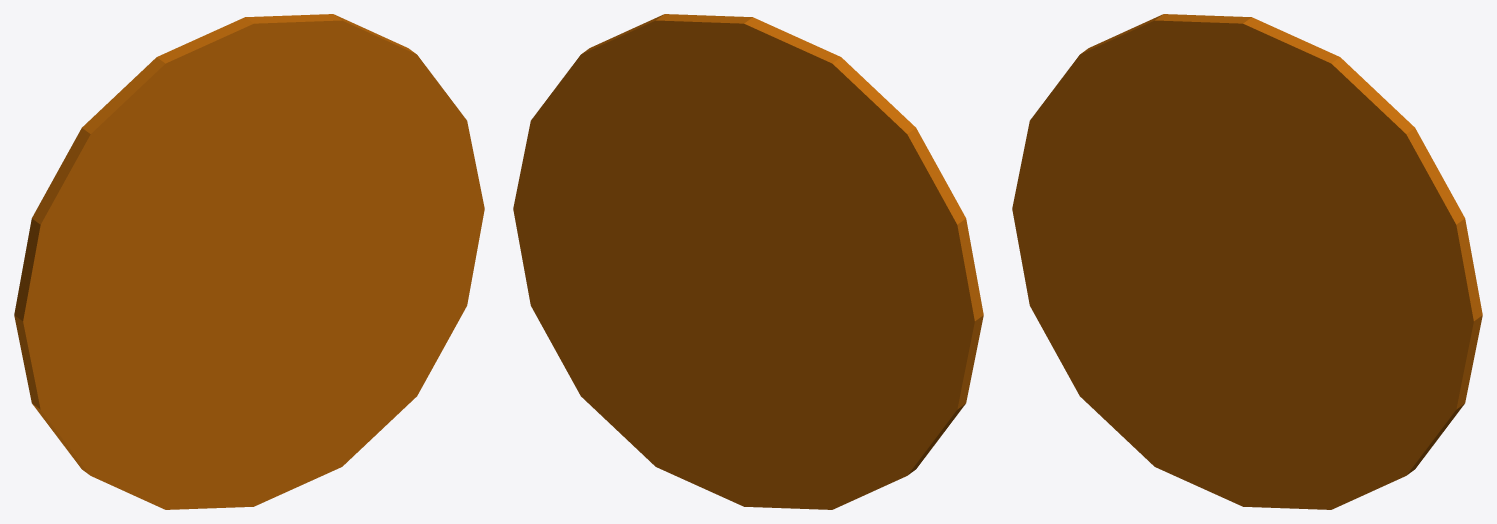
Rendered from 134_L106_VCORE_TestPad.obj.
3 views of the same model, side by side, from view 1: azimuth 30°, elevation 25°; view 2: azimuth 150°, elevation 25°; view 3: azimuth 330°, elevation 25° (orthographic).
Parts seen in each view (by area): view 1: GOLD; view 2: GOLD; view 3: GOLD.
Part boxes in pixels (x1,y1,x2,y2): GOLD: (14, 14, 484, 509); GOLD: (513, 14, 983, 509); GOLD: (1012, 14, 1482, 509).
Size of the model in its own units: 0.003 by 0.003 by 0.0001.
